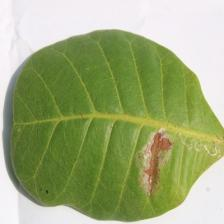leaf miner: (9, 28, 223, 222), (134, 127, 174, 197)
